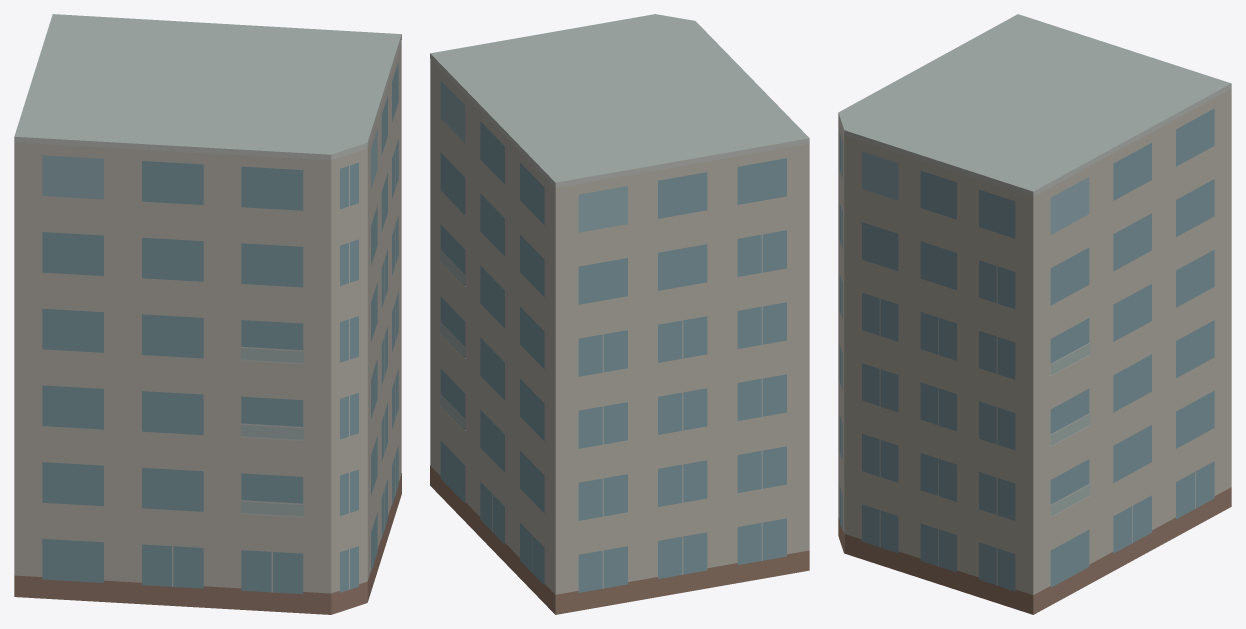
Rendered from survey-upis-32942916.glb.
3 renders of one model, left to right at view 1: azimuth 30°, elevation 25°; view 2: azimuth 150°, elevation 25°; view 3: azimuth 270°, elevation 25°, orthographic. The views are drawn at different scales.
Parts seen in each view (by area): view 1: survey-upis-32942916.tmp; view 2: survey-upis-32942916.tmp; view 3: survey-upis-32942916.tmp.
Boxes of the visible parts, left/top/right/bottom form: survey-upis-32942916.tmp: left=14, top=14, right=401, bottom=614; survey-upis-32942916.tmp: left=430, top=14, right=809, bottom=614; survey-upis-32942916.tmp: left=838, top=14, right=1231, bottom=614.
Bounding box in the file's own units: 17.6 × 19.55 × 16.47.
